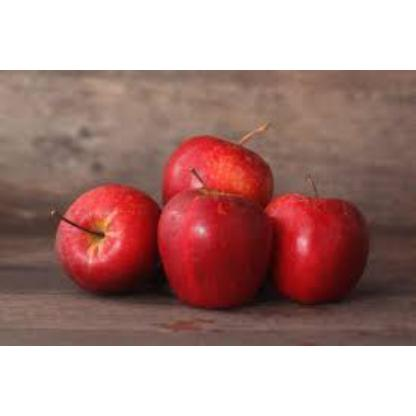apple: (55, 184, 156, 282), (270, 200, 374, 294), (174, 218, 268, 304), (172, 129, 274, 200)
